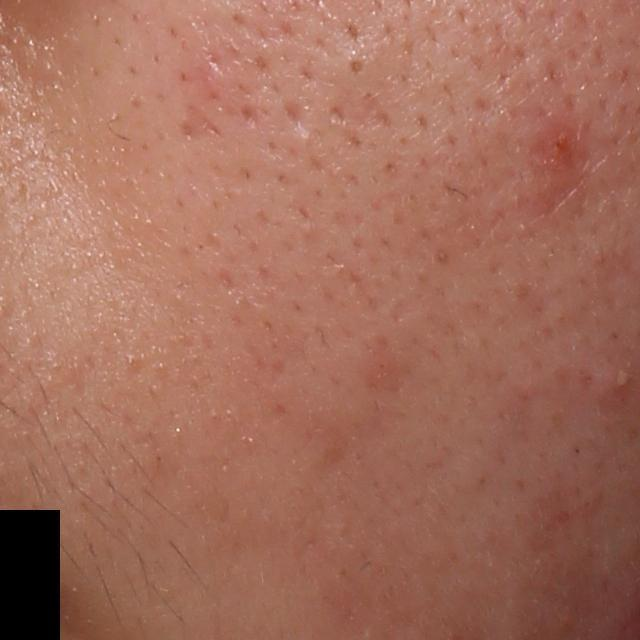atrophic_scar: (179, 103, 221, 140), (280, 99, 311, 139)
comedo: (335, 44, 382, 88)
papule: (532, 129, 586, 193)
pustule: (604, 359, 637, 393)
